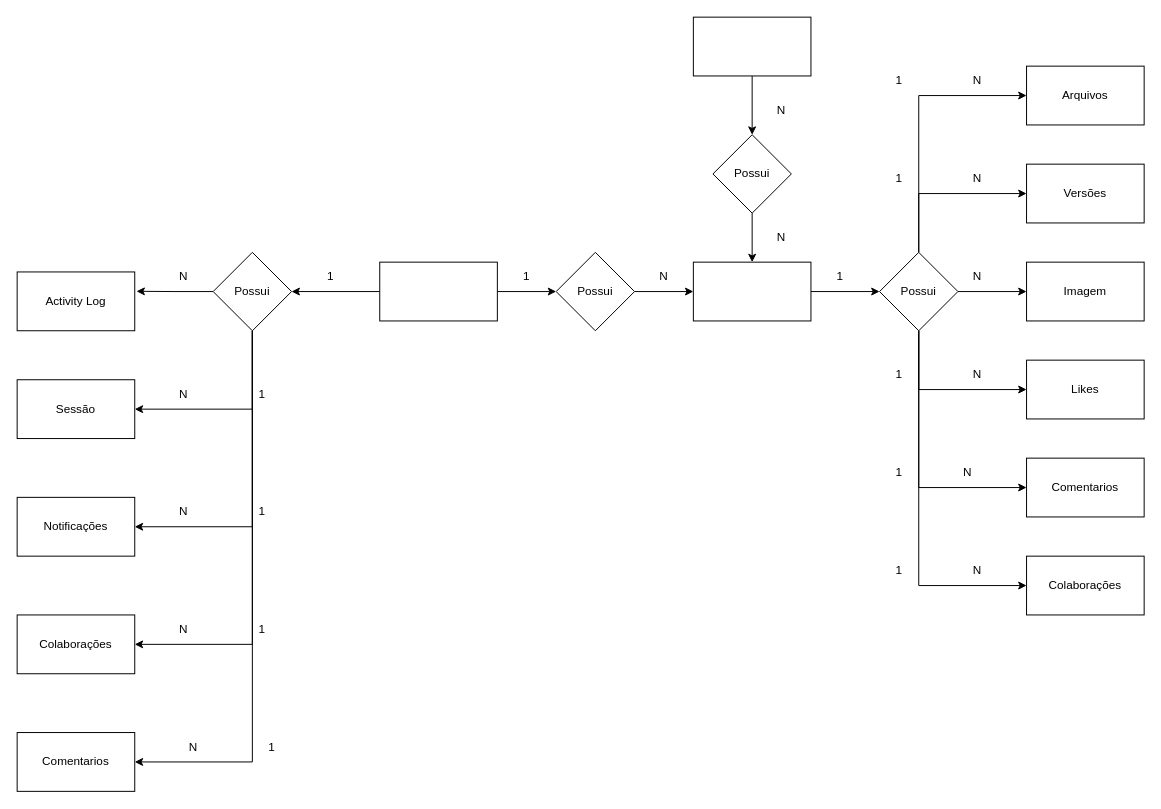
The diagram is 1161 pixels wide and 809 high, and some of its shapes have lost their labels. Each missing label, with the centre of its shape:
"Projeto" goes at [751,291].
"Tecnologias" goes at [751,46].
"Usuario" goes at [438,291].
